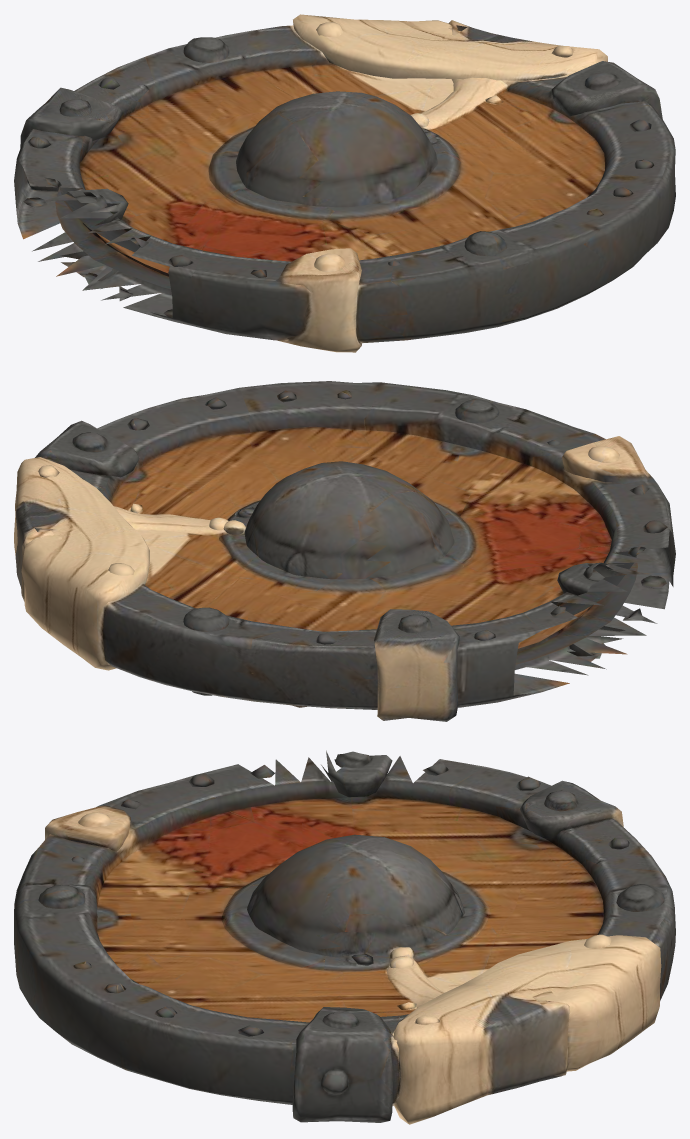
Rendered from escudo.glb.
The picture shows the model from 3 angles, top to bottom: view 1: azimuth 30°, elevation 25°; view 2: azimuth 150°, elevation 25°; view 3: azimuth 270°, elevation 25°; orthographic projection. The views are drawn at different scales.
Visible parts, largest first — view 1: escudo; view 2: escudo; view 3: escudo.
Boxes of the visible parts, left/top/right/bottom form: escudo: left=14, top=14, right=675, bottom=352; escudo: left=14, top=381, right=675, bottom=721; escudo: left=14, top=750, right=675, bottom=1124.
Size of the model in its own units: 0.5 by 0.1724 by 0.4643.
Materials: 1 (1 with a texture image).
